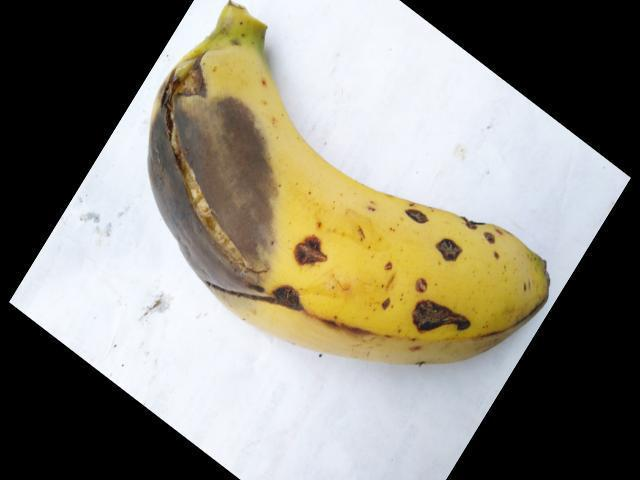rotten: (130, 38, 281, 283), (392, 283, 475, 343), (278, 215, 339, 273), (452, 200, 511, 241), (265, 273, 312, 318), (390, 186, 432, 236), (423, 232, 469, 270)
